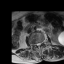CCS_normal: (37, 41, 39, 50)
LFS_stenosis: (41, 39, 43, 45)
LLS_normal: (39, 41, 41, 46)
RFS_stenosis: (34, 41, 36, 47)
RLS_normal: (36, 41, 37, 47)
